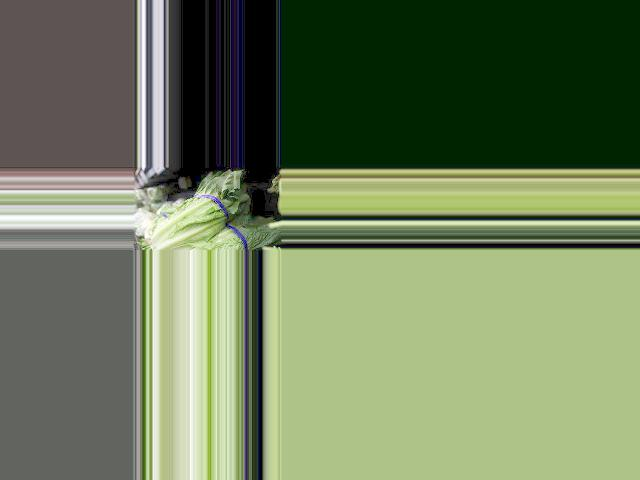lettuce: (155, 175, 247, 250)
